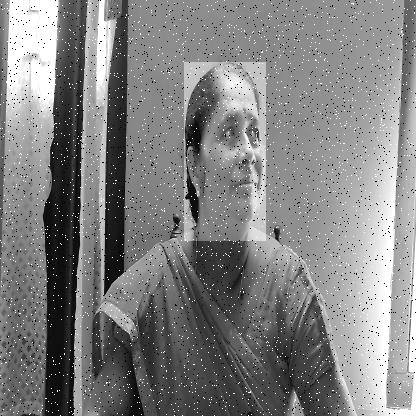Distracted: (184, 62, 266, 241)
